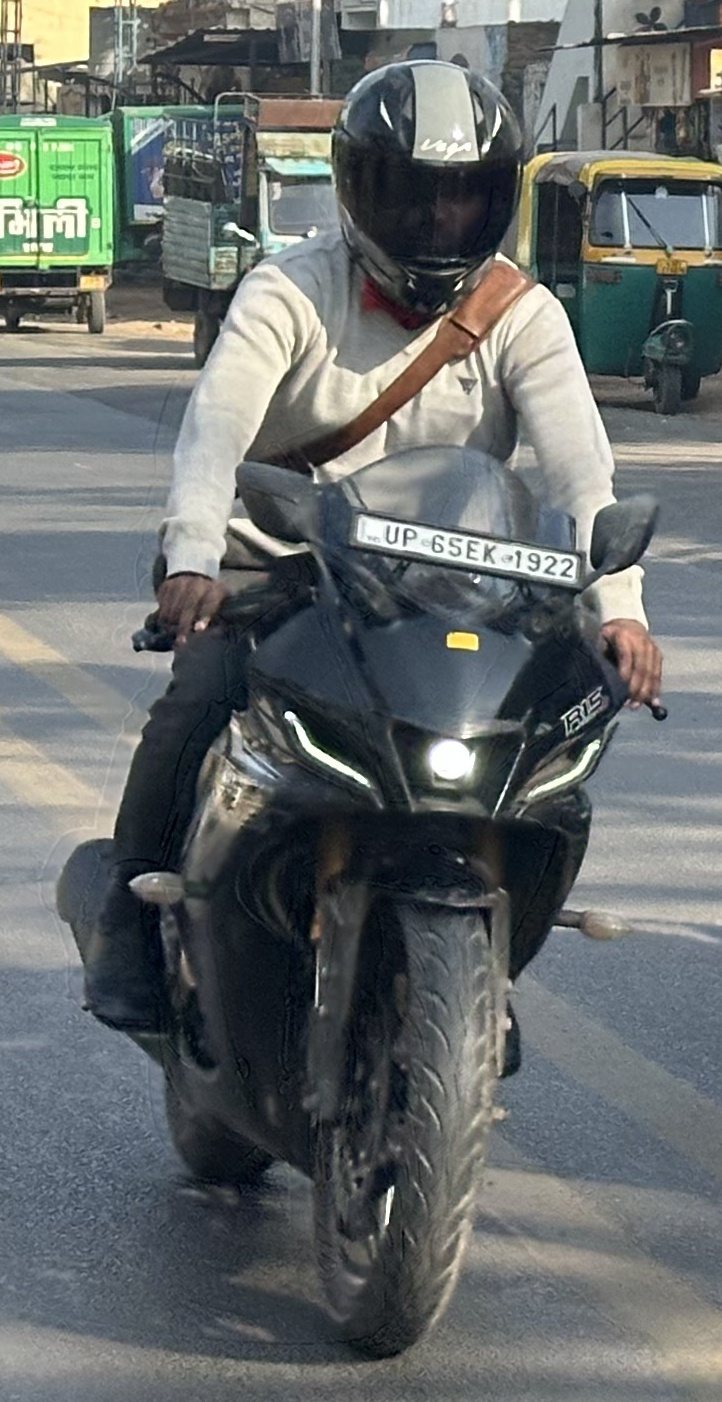BikeWithRider: (41, 44, 683, 1372)
Helmet: (314, 45, 540, 330)
